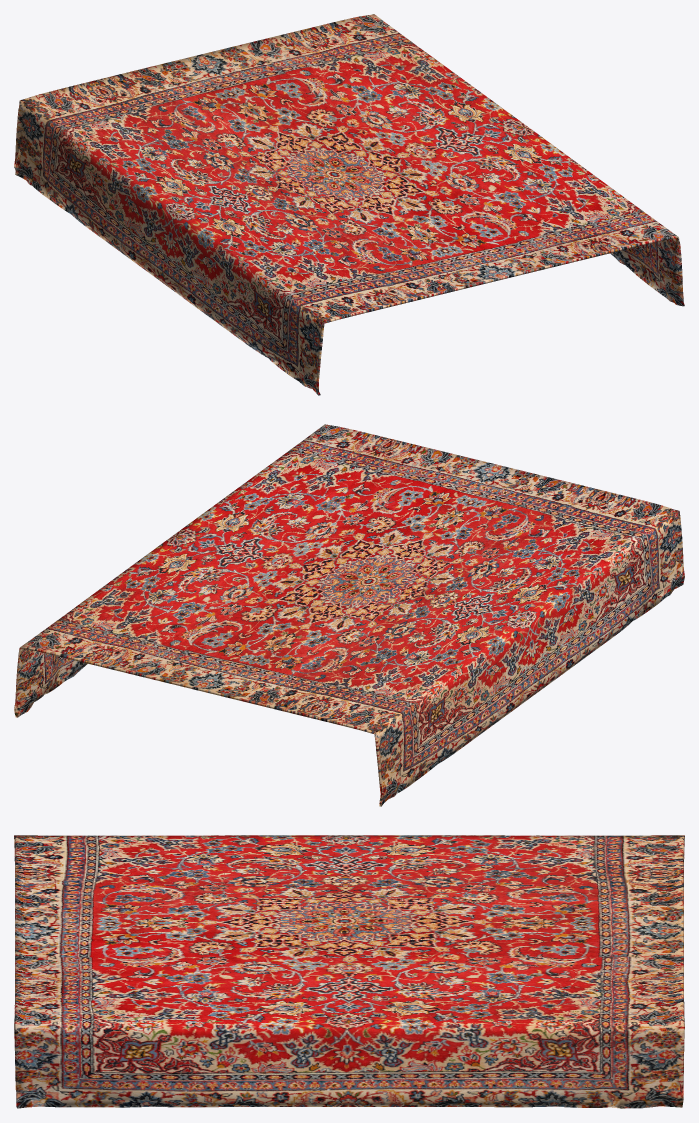
Rendered from realrugplaya.fbx.
3 views of the same model, one above another, from view 1: azimuth 30°, elevation 25°; view 2: azimuth 150°, elevation 25°; view 3: azimuth 270°, elevation 25° (orthographic). The views are drawn at different scales.
Parts seen in each view (by area): view 1: Plane; view 2: Plane; view 3: Plane.
Boxes of the visible parts, bbox=[...] form: Plane: bbox=[14, 14, 684, 395]; Plane: bbox=[14, 424, 684, 806]; Plane: bbox=[14, 835, 684, 1108].
Size of the model in its own units: 478 by 90.18 by 667.
